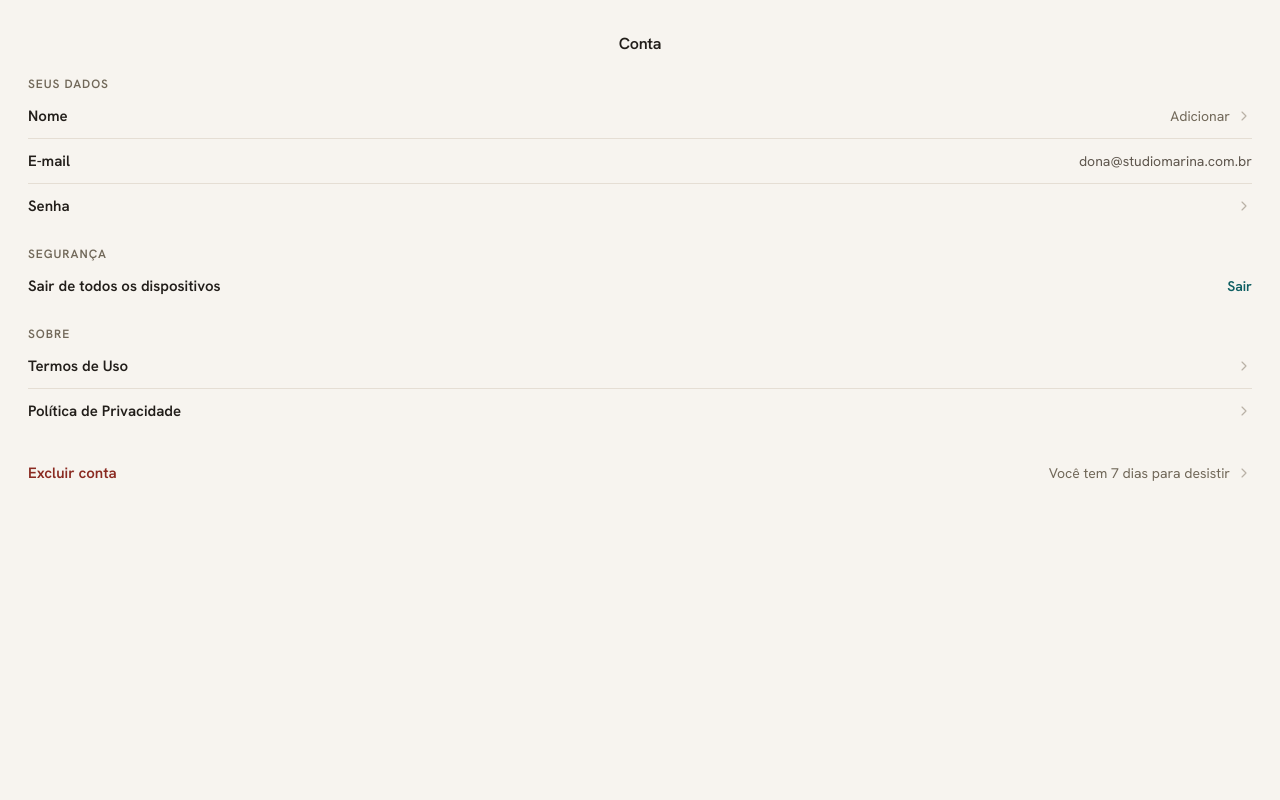
Test case: troca de senha em Configurações › Conta › recusa no cliente uma senha só de letras, com a mesma regra do pacote
Click the button "Senha" at (49, 206), box x1=28 y1=184 x2=1252 y2=228
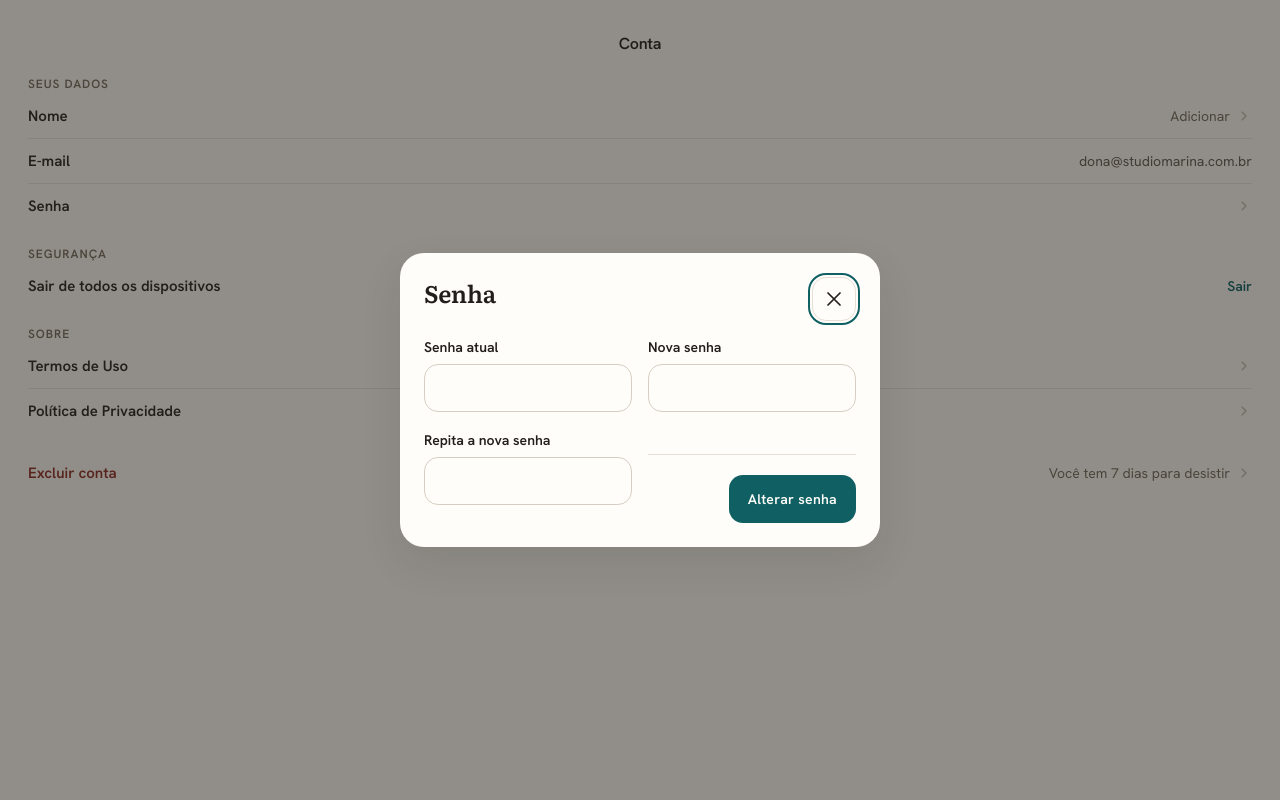
Type "senhaAtual123" into the password field labelled "Senha atual" at (528, 388), box x1=424 y1=364 x2=632 y2=412
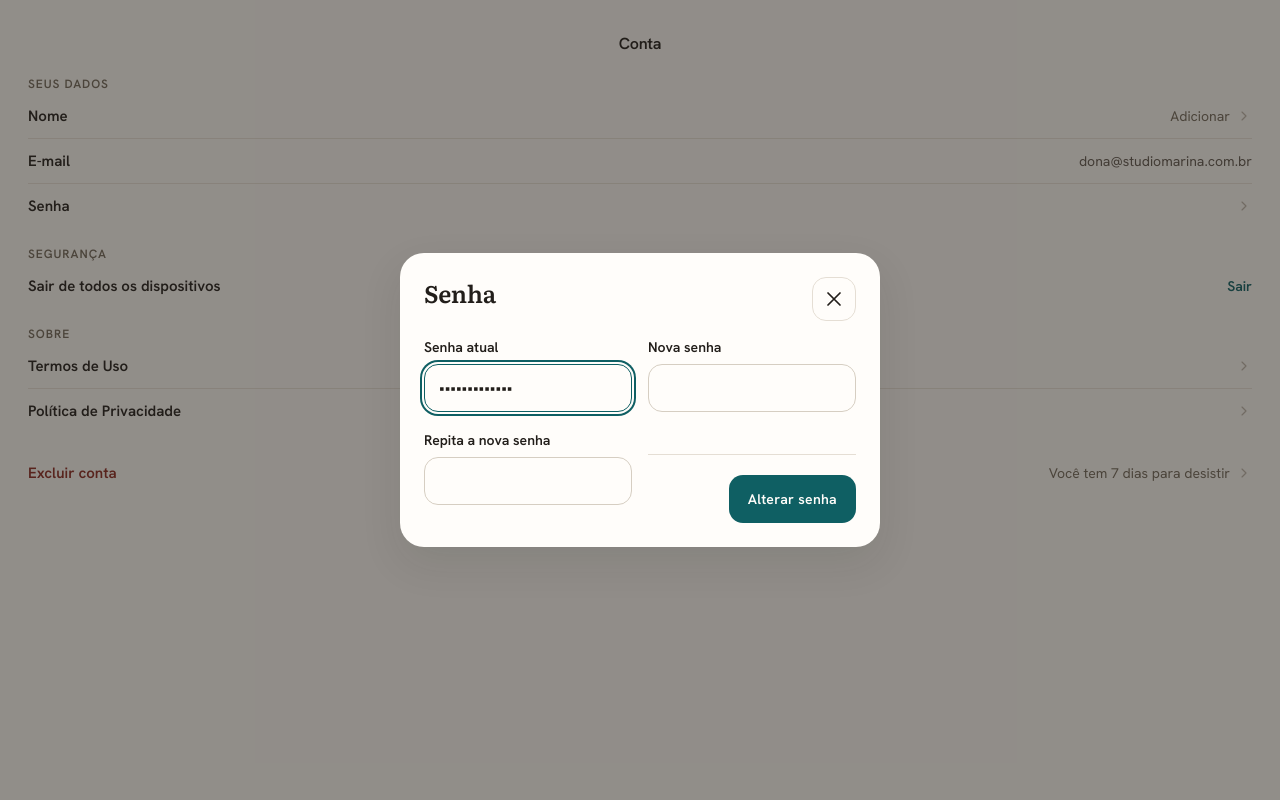
Type "somenteletras" into the password field labelled "Nova senha" at (752, 388), box x1=648 y1=364 x2=856 y2=412
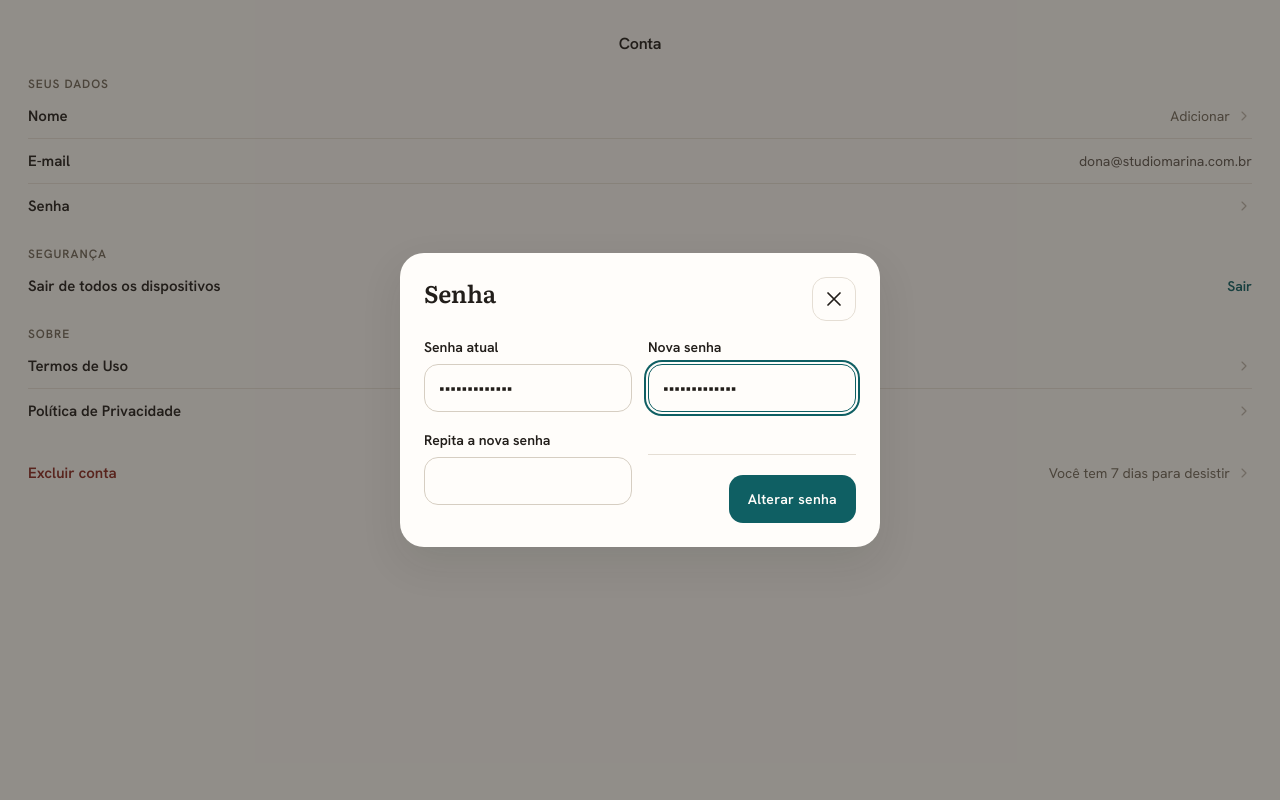
Type "somenteletras" into the password field labelled "Repita a nova senha" at (528, 481), box x1=424 y1=457 x2=632 y2=505
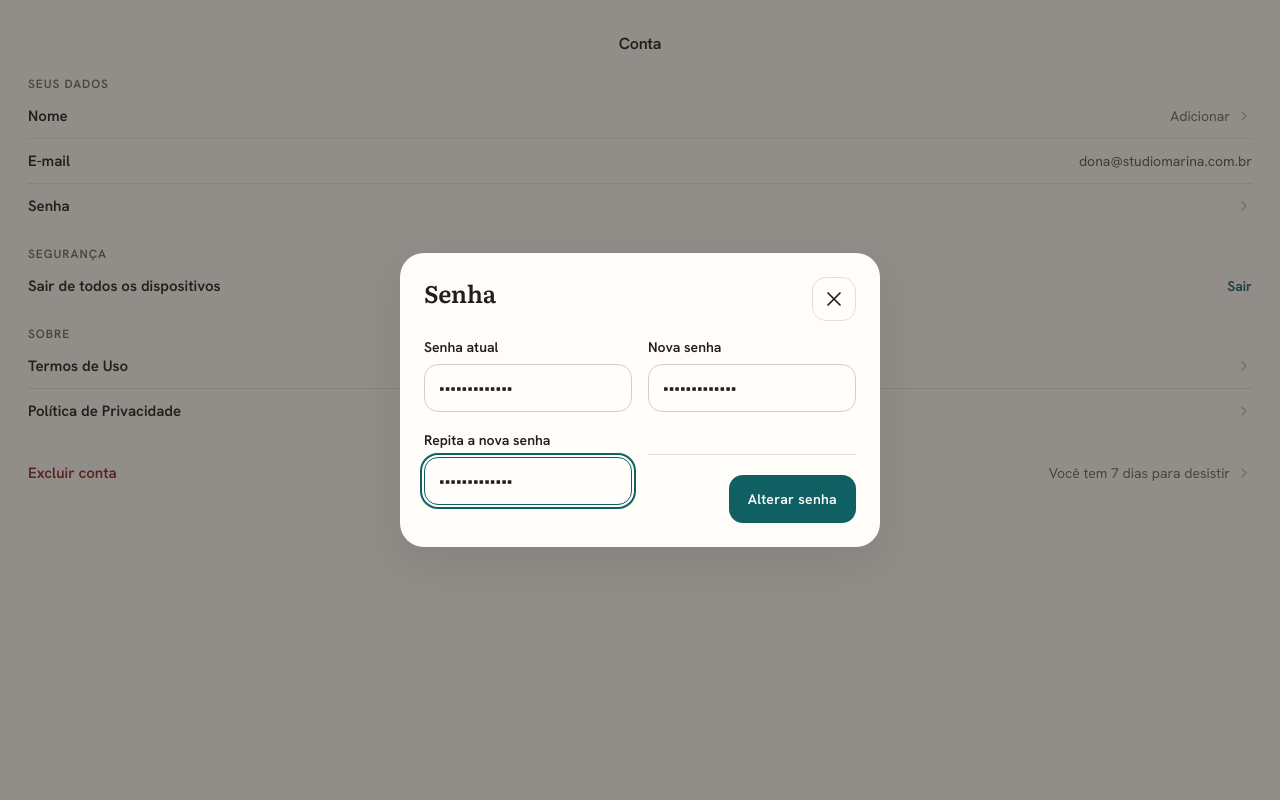
Click the button "Alterar senha" at (792, 499), box x1=729 y1=475 x2=856 y2=523
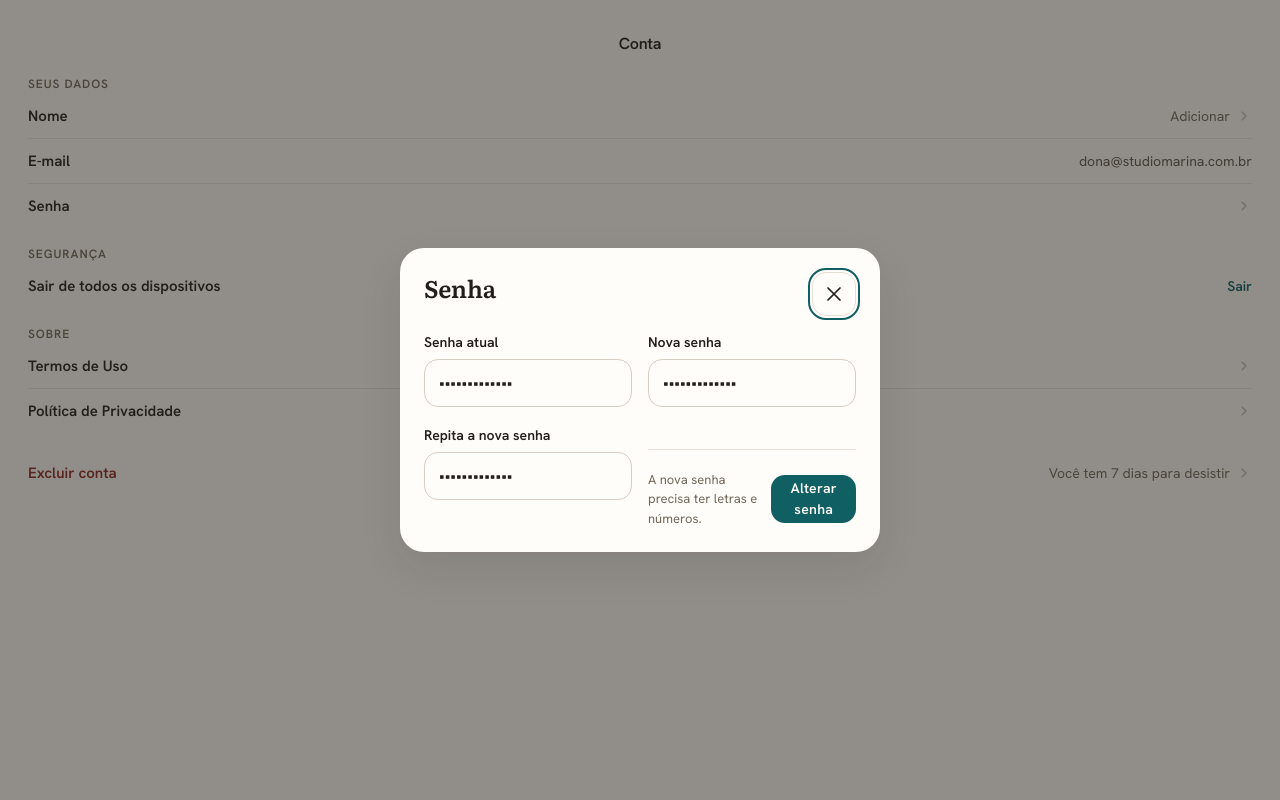
expect the text "A nova senha precisa ter letras e números." is shown: met, box x1=648 y1=470 x2=762 y2=528
